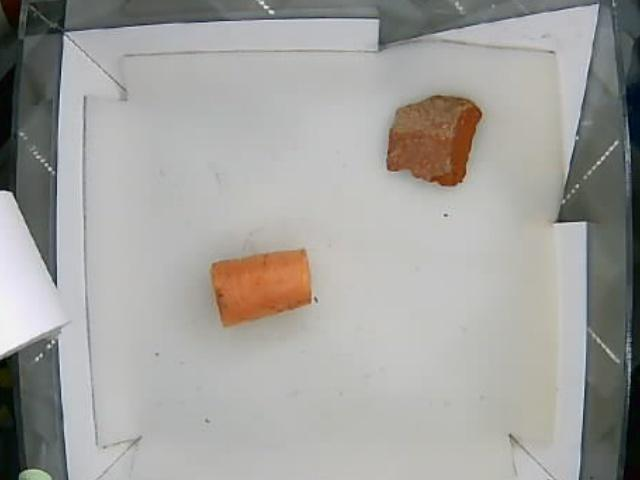Brisk: (387, 93, 483, 187)
Carrot: (212, 248, 313, 326)
